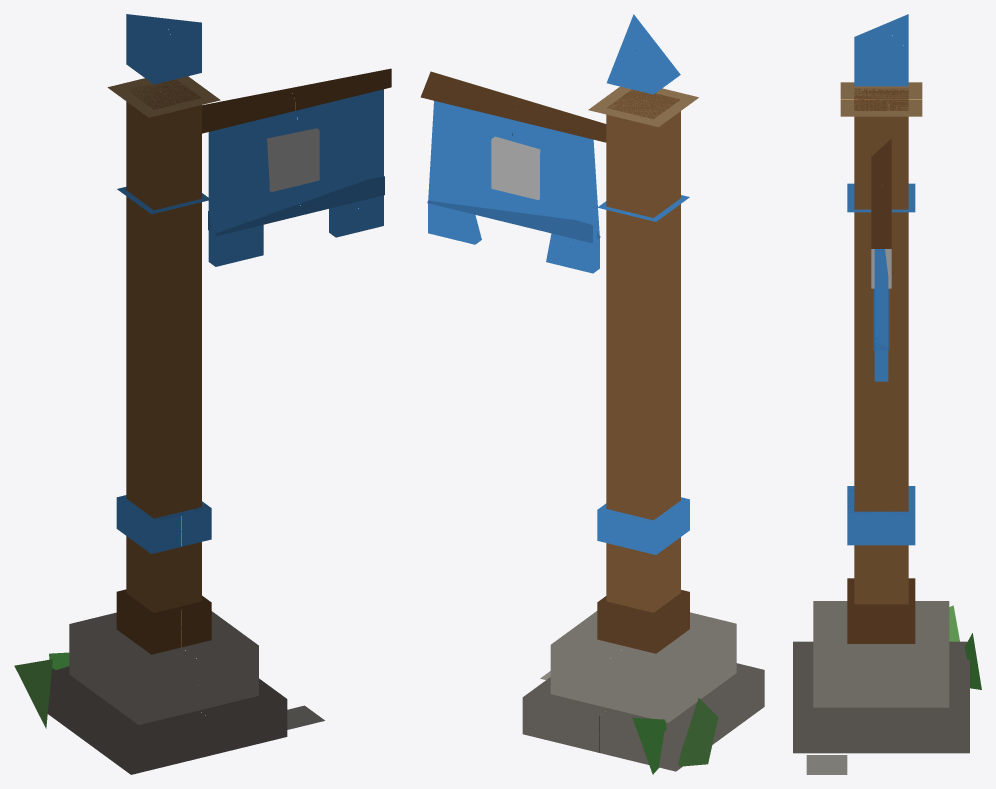
The model's file is territory-marker-butterfly_lod1.glb.
The picture shows the model from 3 angles, left to right: view 1: azimuth 30°, elevation 25°; view 2: azimuth 150°, elevation 25°; view 3: azimuth 270°, elevation 25°; orthographic projection. The views are drawn at different scales.
Visible parts, largest first — view 1: marker-post, banner; view 2: marker-post, banner; view 3: marker-post, banner.
Part boxes in pixels (x1,y1,x2,y2): marker-post: [14, 14, 324, 774]; banner: [202, 68, 391, 266]; marker-post: [522, 14, 764, 774]; banner: [420, 71, 606, 273]; marker-post: [793, 14, 981, 774]; banner: [871, 139, 891, 381].
Bounding box in the file's own units: 0.5581 × 1.12 × 0.2778.
